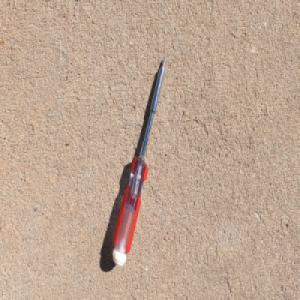Screwdriver: (111, 52, 168, 268)
